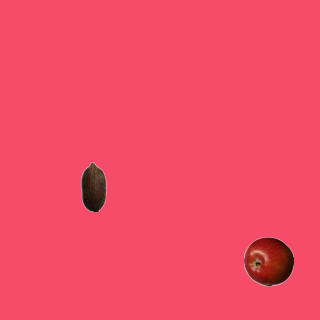Apple Braeburn: (243, 236, 293, 286)
Nut Pecan: (68, 161, 118, 211)
